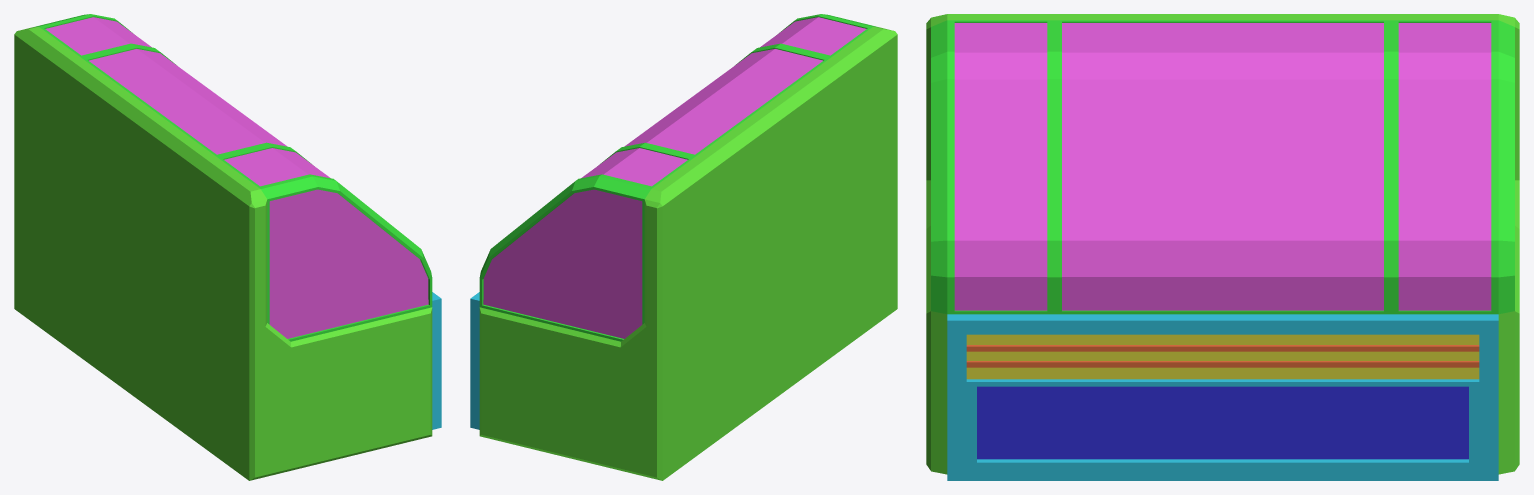
The model's file is Fridge_03.fbx.
3 views of the same model, side by side, from view 1: azimuth 30°, elevation 25°; view 2: azimuth 150°, elevation 25°; view 3: azimuth 270°, elevation 25° (orthographic). The views are drawn at different scales.
Visible parts, largest first — view 1: Fridge_03, Fridge_03_Cap; view 2: Fridge_03, Fridge_03_Cap; view 3: Fridge_03_Cap, Fridge_03.
Boxes of the visible parts, x1,y1,x2,y2 form: Fridge_03: (14, 26, 441, 480); Fridge_03_Cap: (33, 14, 432, 341); Fridge_03: (470, 26, 897, 480); Fridge_03_Cap: (479, 14, 878, 341); Fridge_03_Cap: (931, 20, 1514, 314); Fridge_03: (926, 14, 1519, 480).
Bounding box in the file's own units: 96.56 × 131 × 201.
